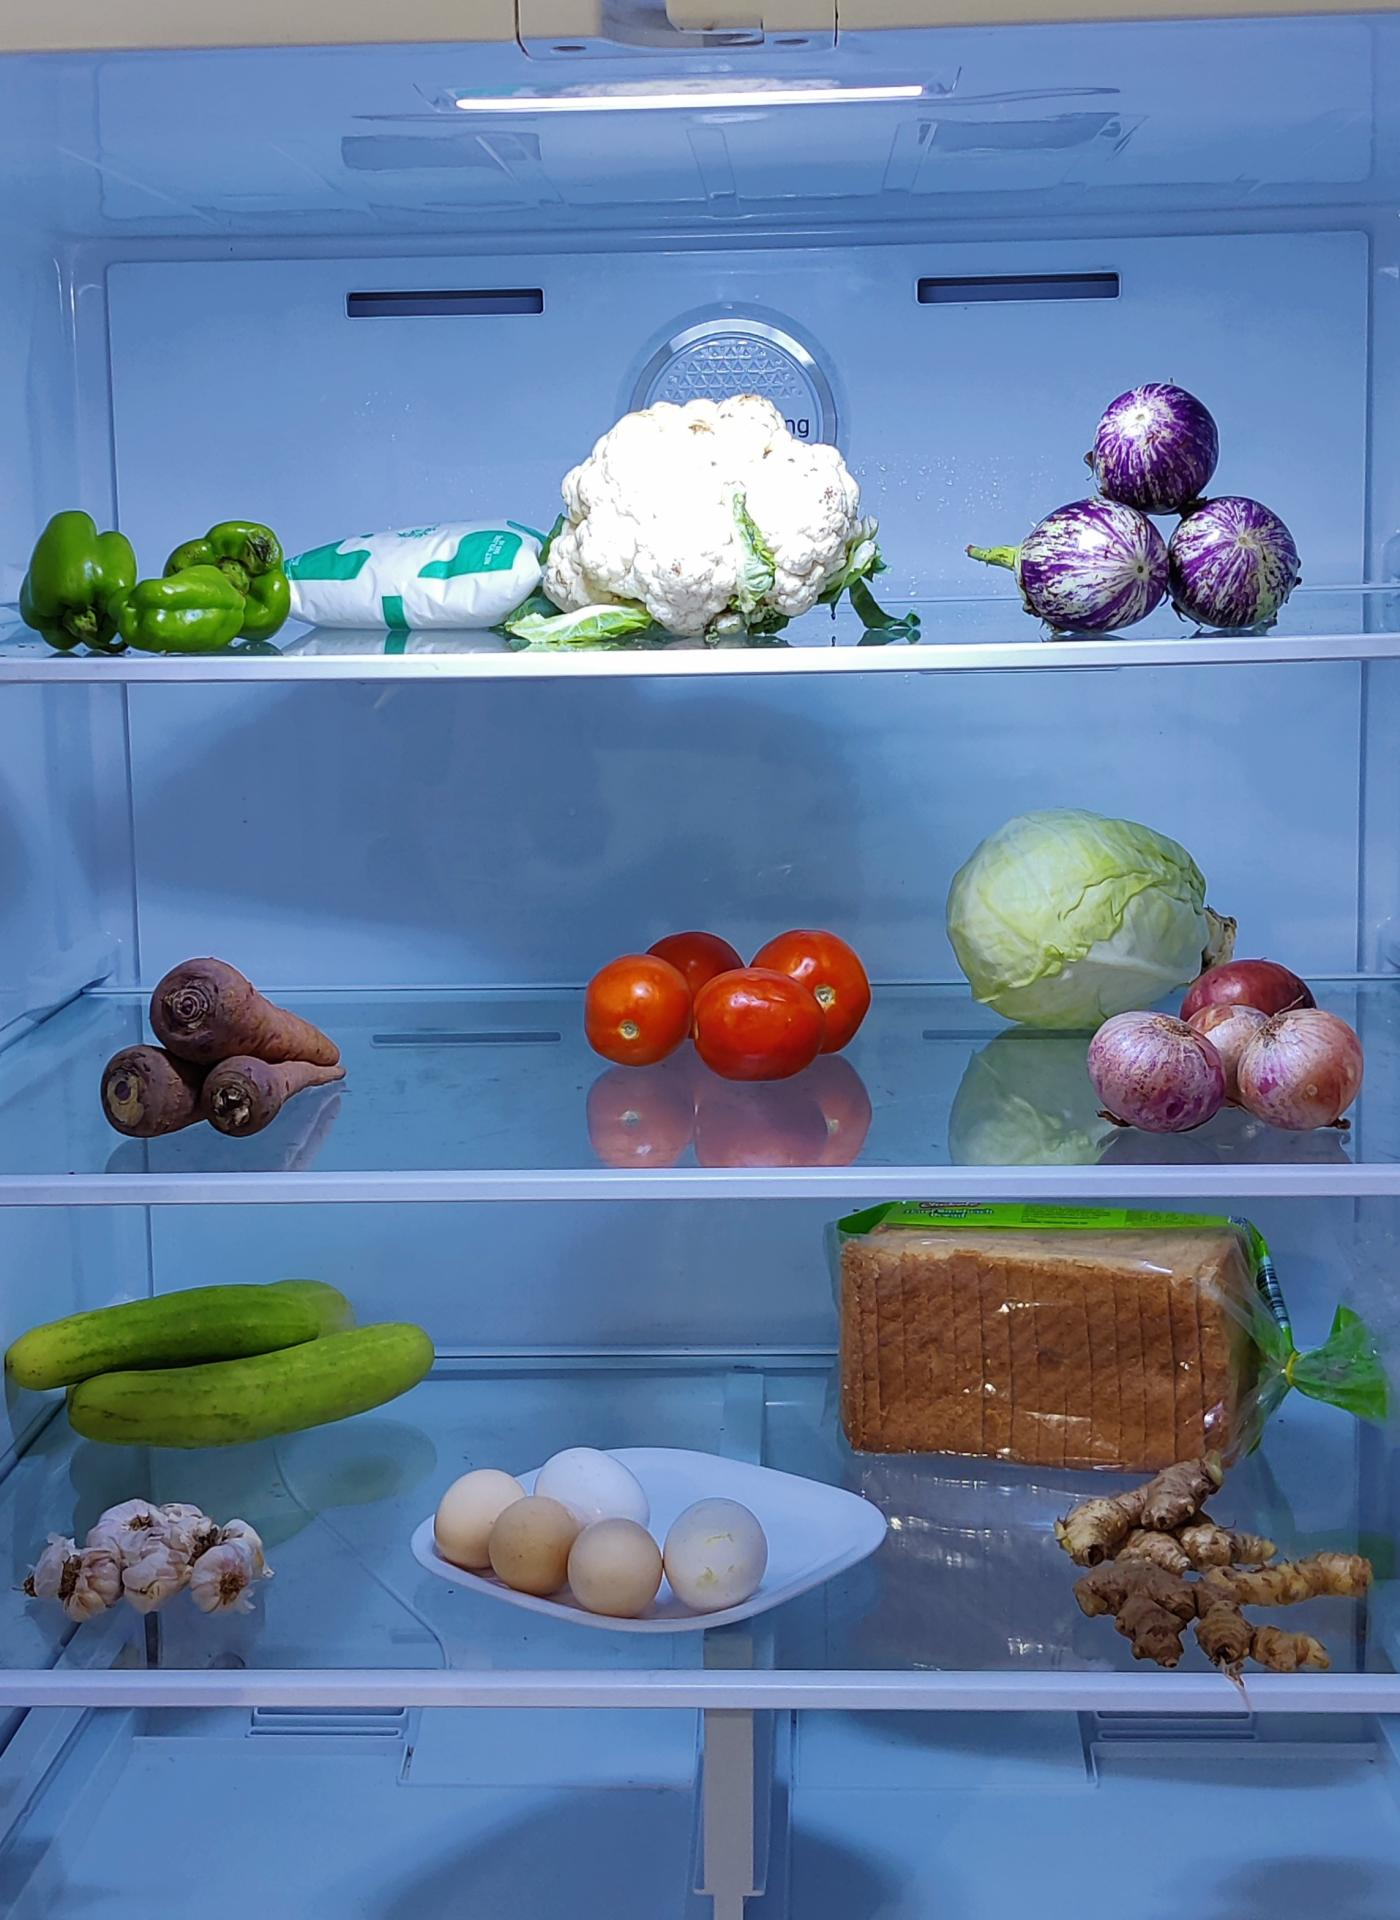bread: (833, 1199, 1287, 1468)
brinjal: (1018, 373, 1315, 637)
cabbage: (947, 820, 1233, 1036)
capsicum: (16, 510, 297, 665)
carrots: (95, 950, 346, 1143)
cauliflower: (550, 394, 874, 628)
cucumber: (18, 1267, 435, 1452)
egg: (438, 1452, 777, 1638)
garlic: (16, 1500, 270, 1626)
ginger: (1062, 1512, 1370, 1673)
milk: (294, 523, 558, 645), (412, 514, 553, 625)
onion: (1087, 957, 1364, 1134)
tomato: (587, 927, 880, 1082)
